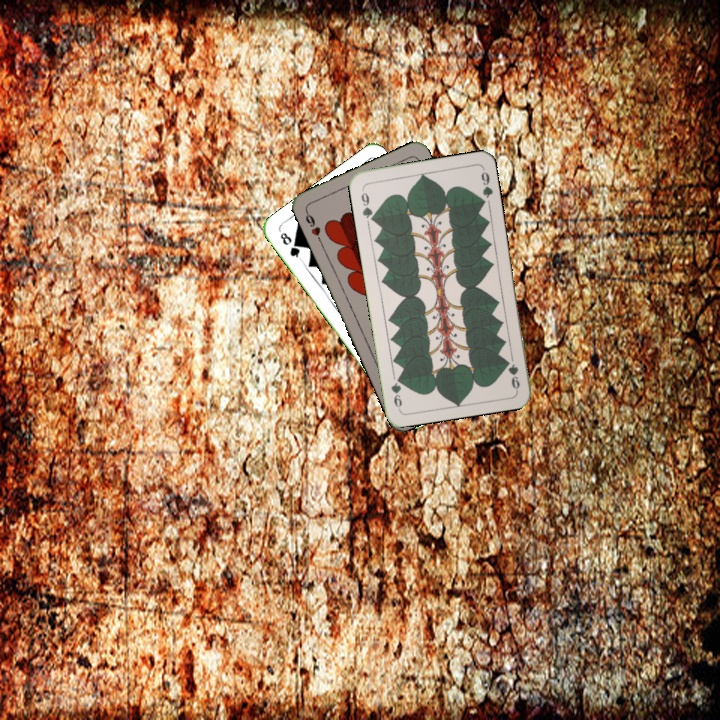G8: (276, 228, 304, 262)
G9: (357, 185, 377, 224), (502, 356, 522, 392)
H9: (301, 207, 324, 245)
